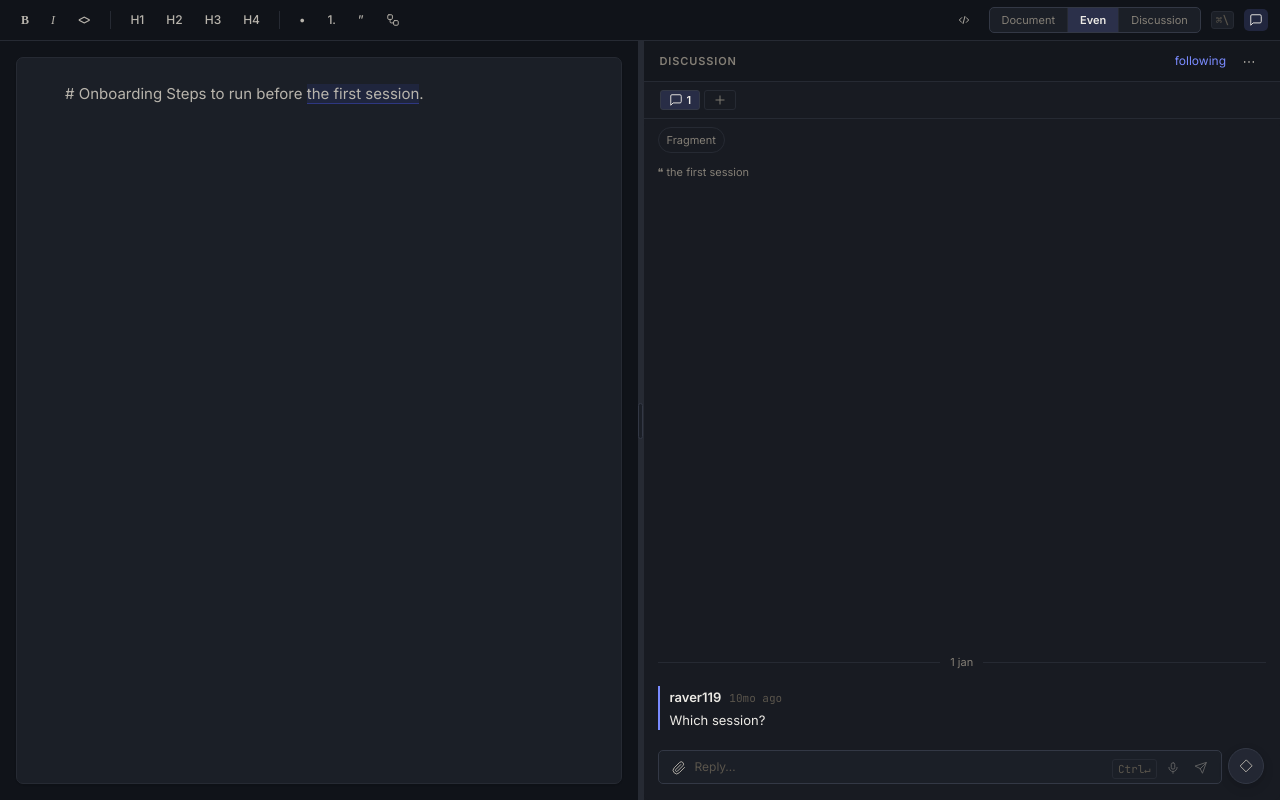
it: CTA-FR-ZOLW, CTA-FR-XMCQ / CTA-FR-VHOY: what the placeholder says while an agent thinks › reads thinking, attributed to the agent, with no timestamp and no attachment
Expected: the element named "artifact body" is shown, [65,84,424,104]
Type "@arch thoughts?" into the text box named "Reply to thread t1" at (901, 767), box [694,755,1108,779]
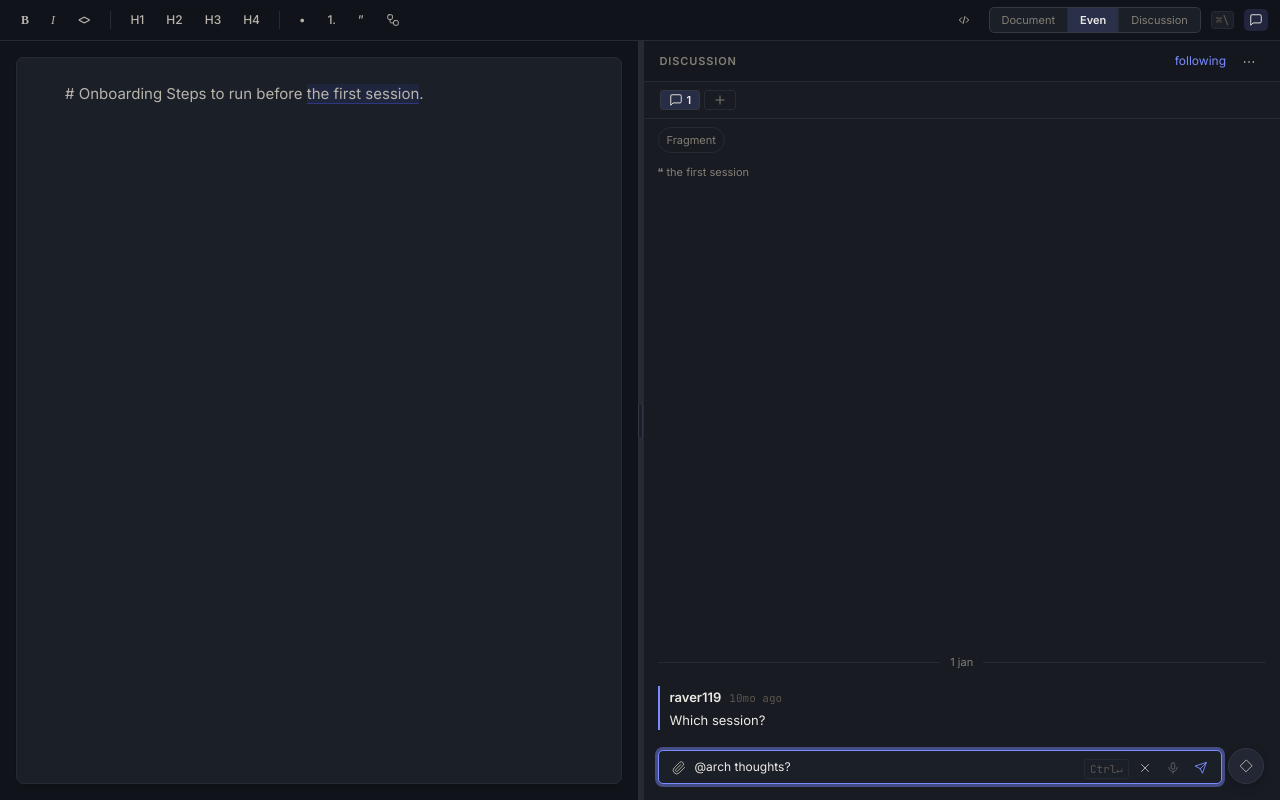
Click the button named "Post" at (1201, 768), box [1189,757,1213,779]
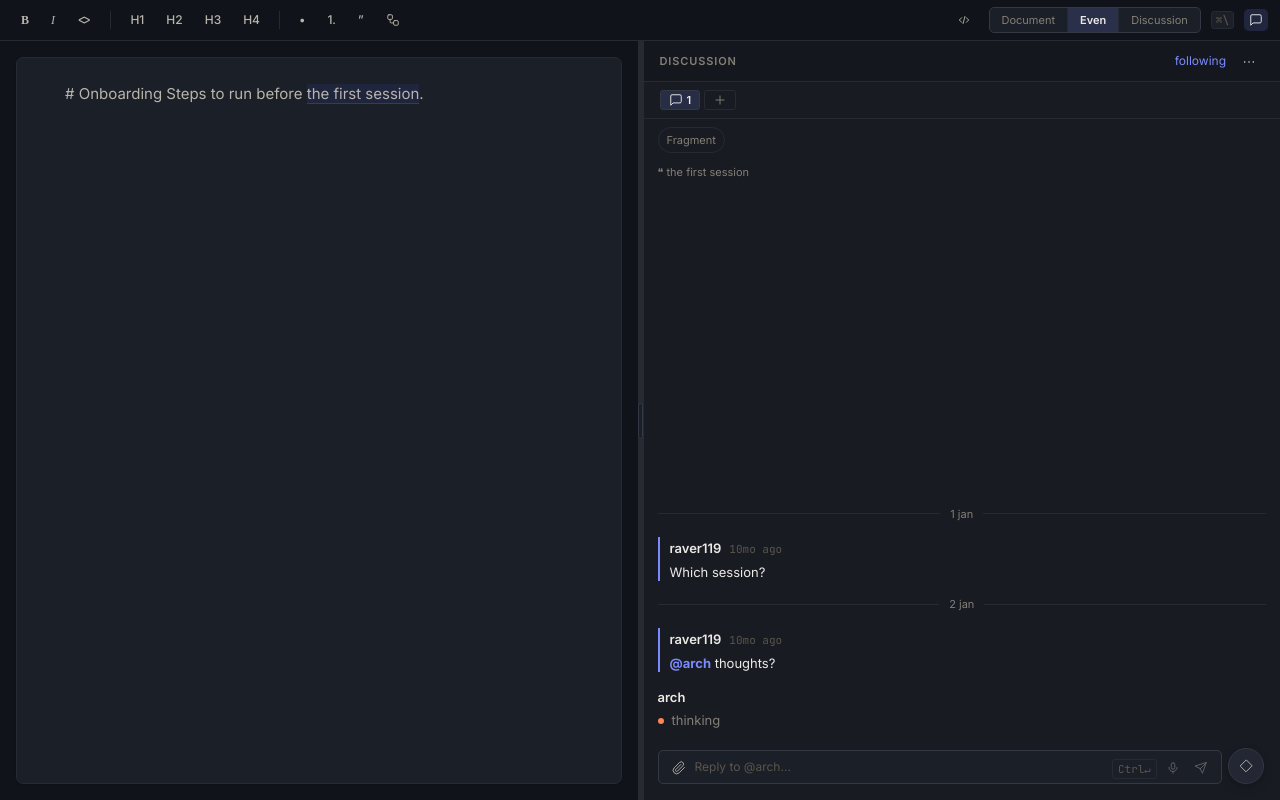
Expected: the element with test id "dds-transient-status" reads "thinking", [672,712,720,728]
Expected: the element with test id "dds-transient" shows "arch", [658,689,685,705]
